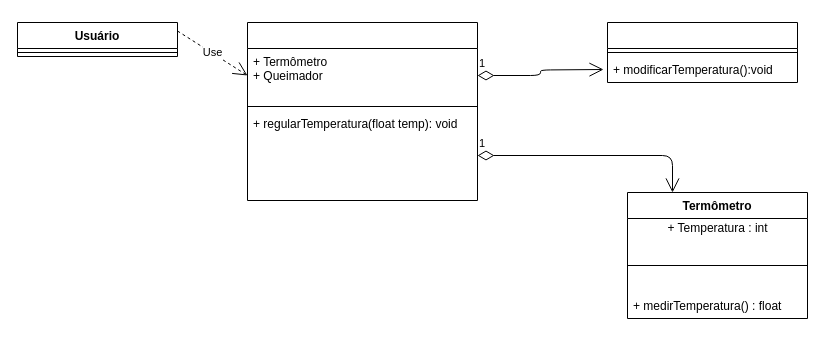
The diagram is 825 pixels wide and 338 high, and some of its shapes have lost their labels. The shapes that lost their labels are listed below. From the top down, each one's box as (x1, y1, x2, y2) in pixels, then its label:
(606, 22, 798, 82): Queimador
(246, 22, 478, 200): Termostato
